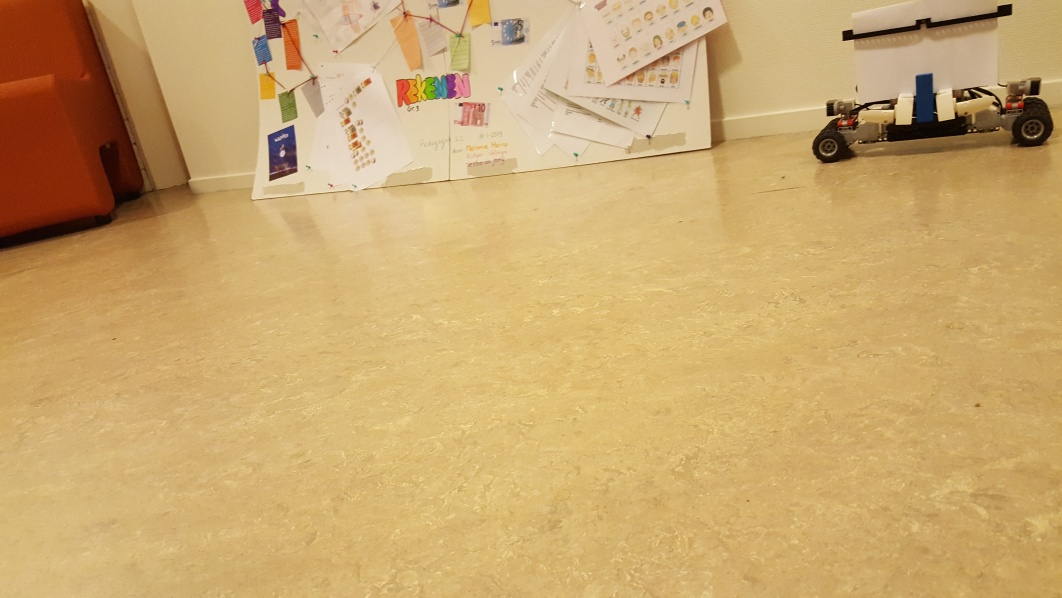car: (811, 1, 1055, 160)
